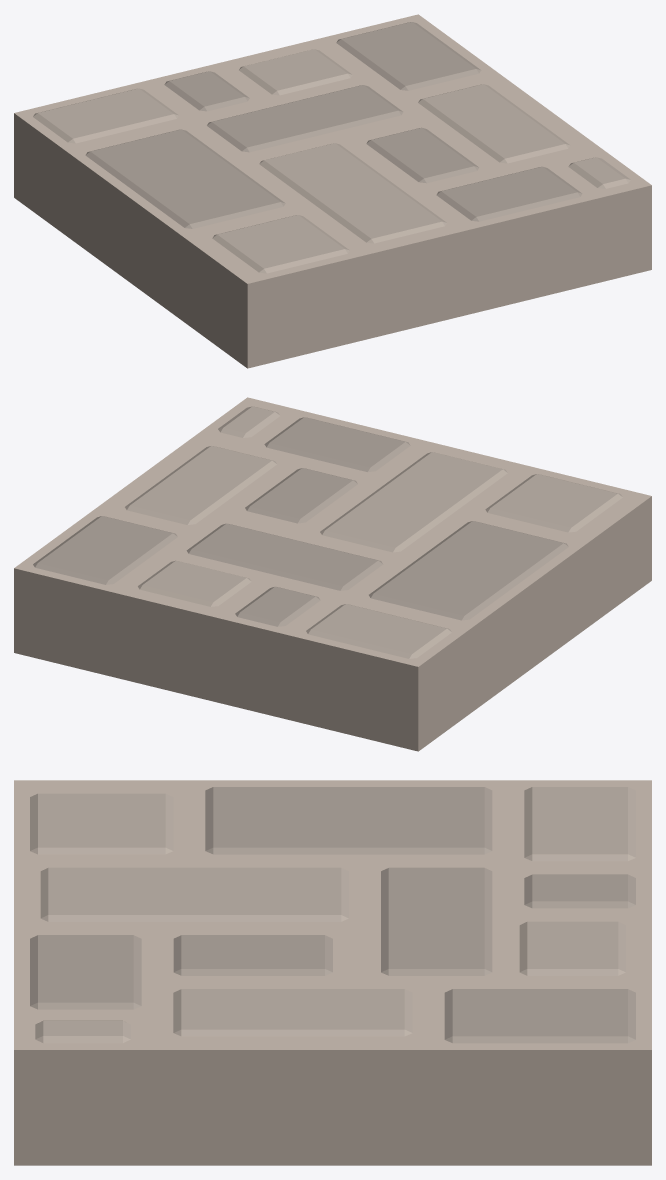
The model's file is pisoPiedra2.glb.
3 renders of one model, top to bottom at view 1: azimuth 30°, elevation 25°; view 2: azimuth 150°, elevation 25°; view 3: azimuth 270°, elevation 25°, orthographic. The views are drawn at different scales.
Visible parts, largest first — view 1: object1; view 2: object1; view 3: object1.
Boxes of the visible parts, x1,y1,x2,y2 form: object1: (14,14,651,368); object1: (14,397,651,751); object1: (14,780,651,1165).
Bounding box in the file's own units: 1 × 0.2063 × 1.
